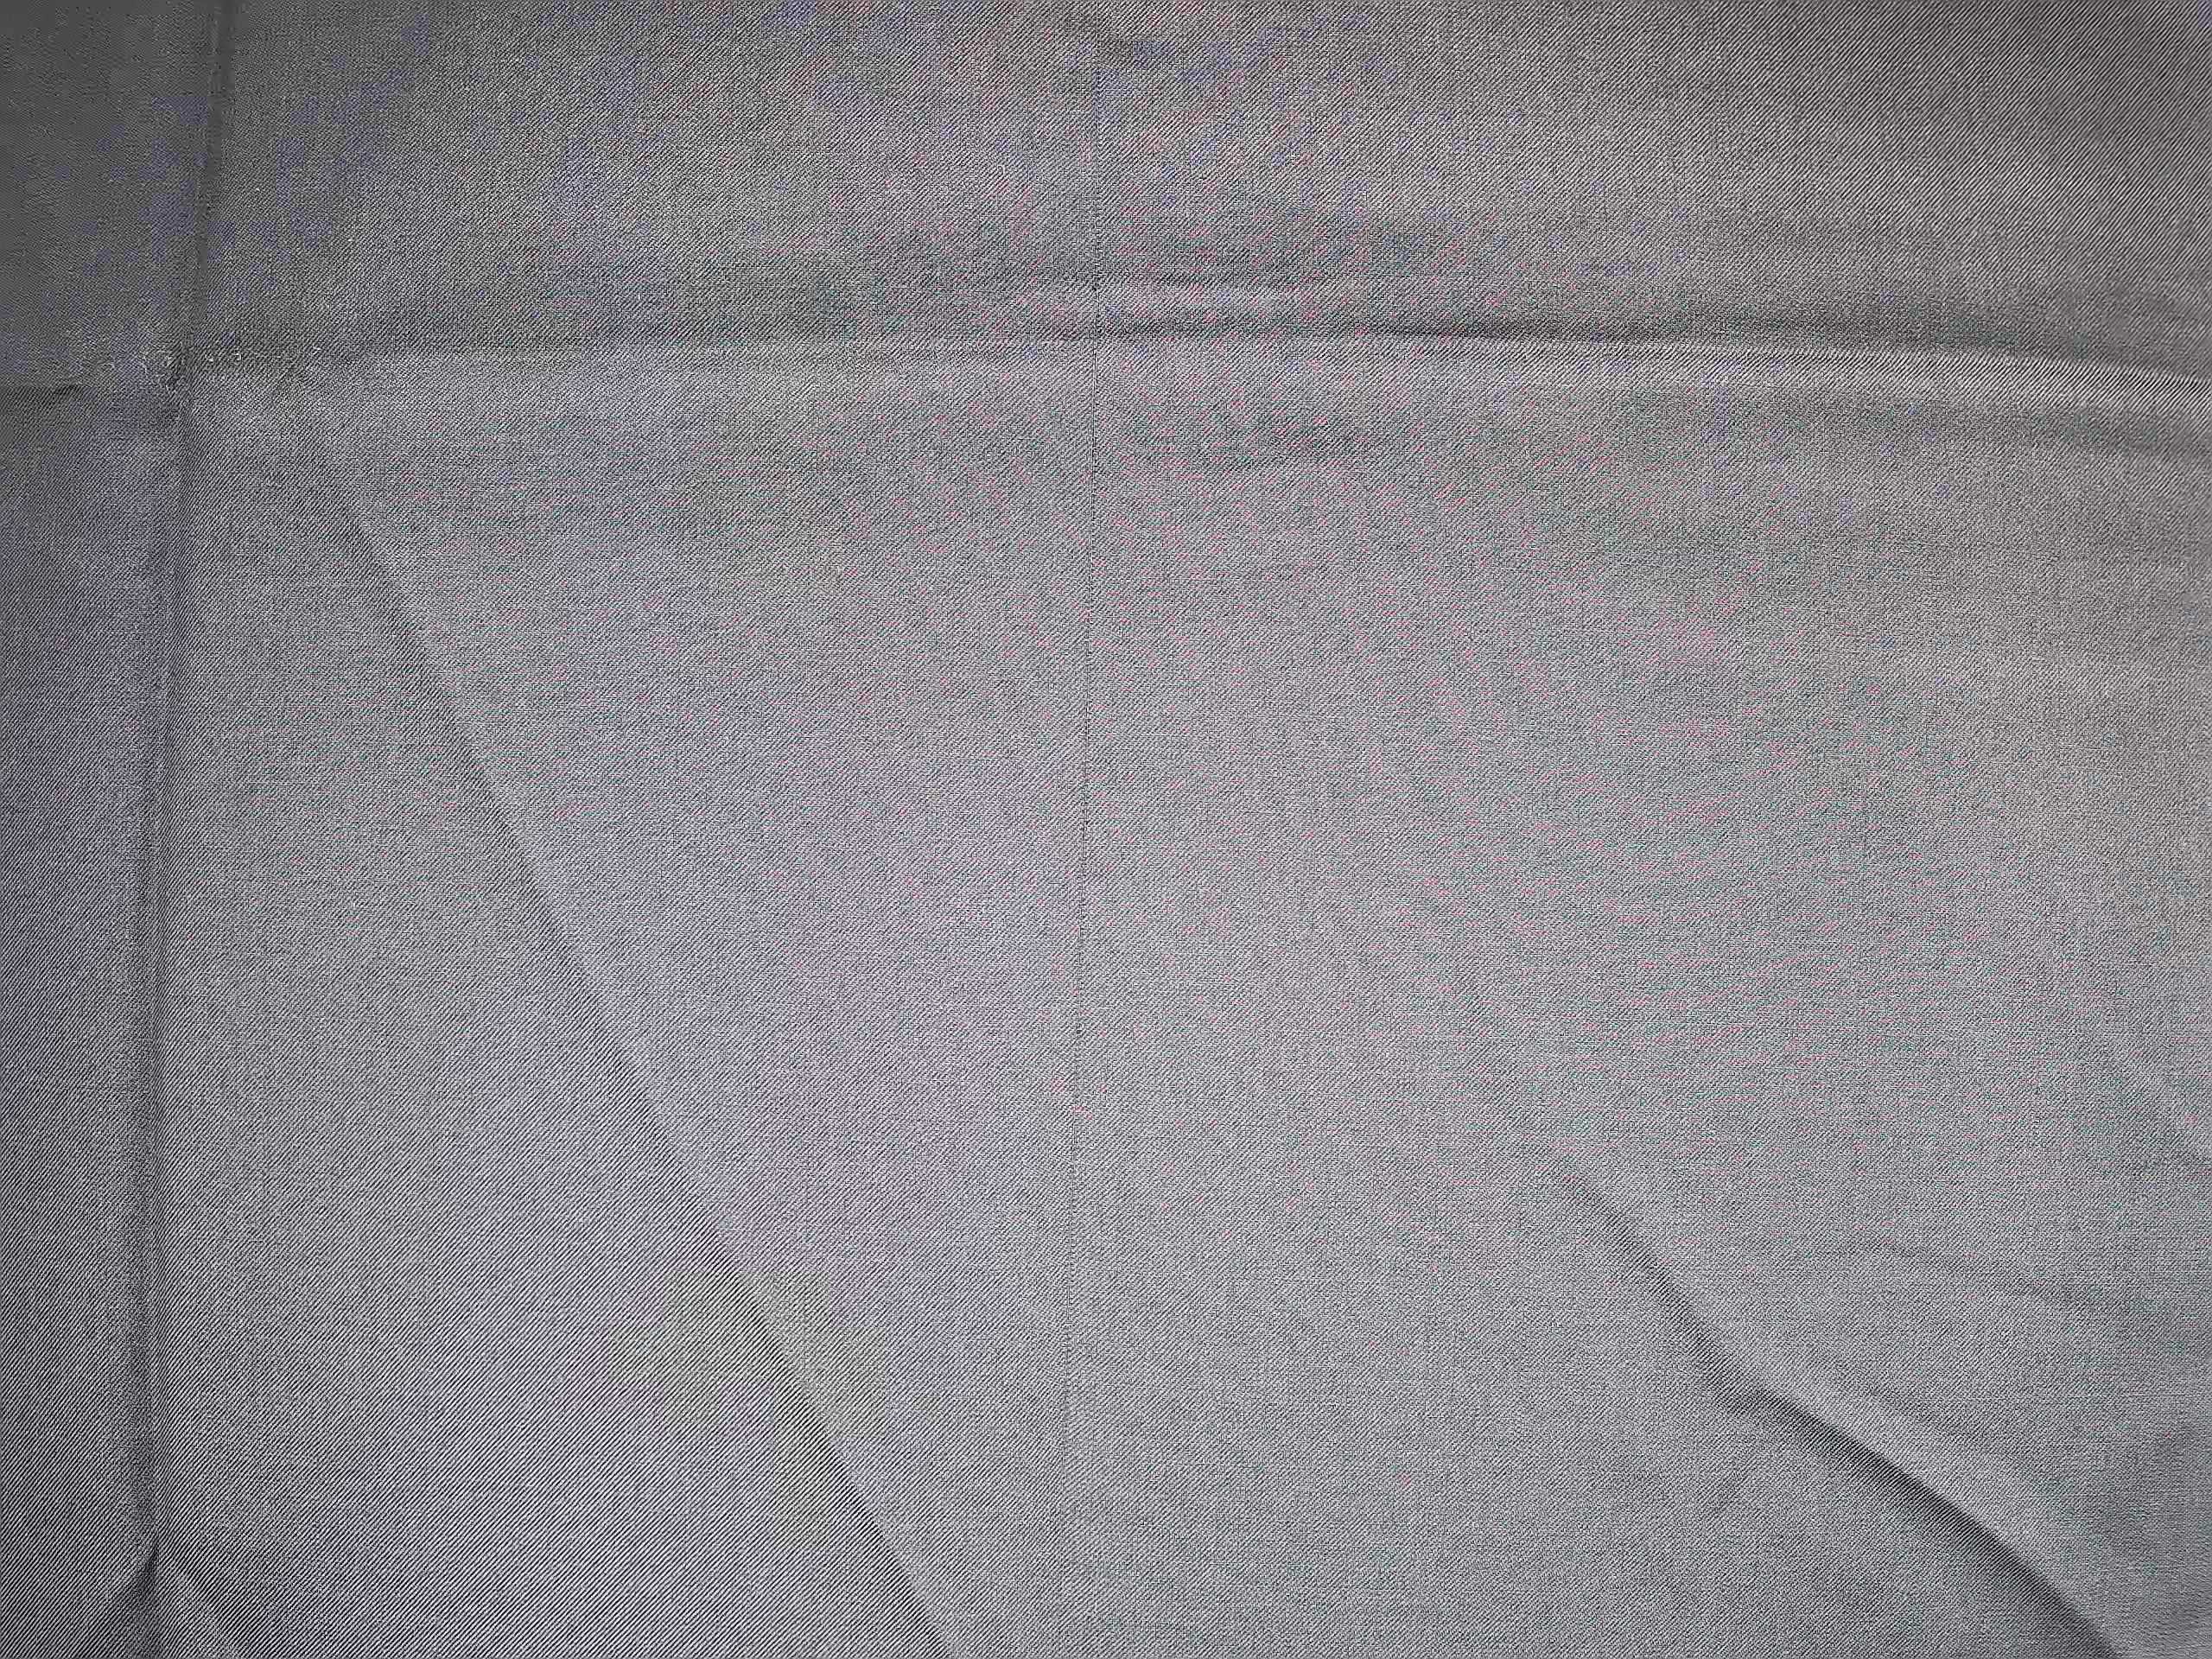hanging-warp: (1050, 28, 1113, 1539)
